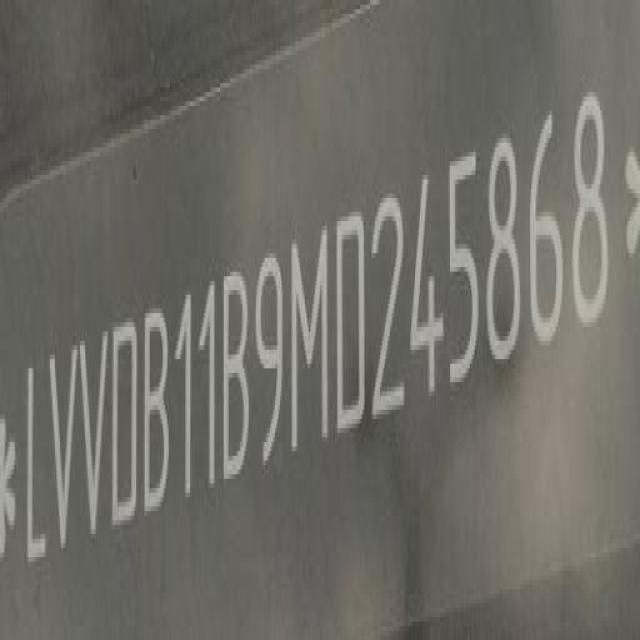1: (197, 276, 221, 497), (172, 295, 194, 508)
2: (372, 185, 412, 428)
4: (407, 160, 448, 404)
5: (446, 136, 485, 388)
6: (527, 111, 570, 352)
8: (569, 90, 614, 333), (483, 122, 527, 370)
9: (256, 246, 286, 467)
B: (143, 304, 175, 517), (223, 271, 251, 481)
D: (334, 201, 370, 441), (110, 318, 141, 534)
L: (22, 361, 49, 571)
M: (287, 225, 334, 459)
V: (47, 345, 81, 563), (78, 336, 110, 534)
